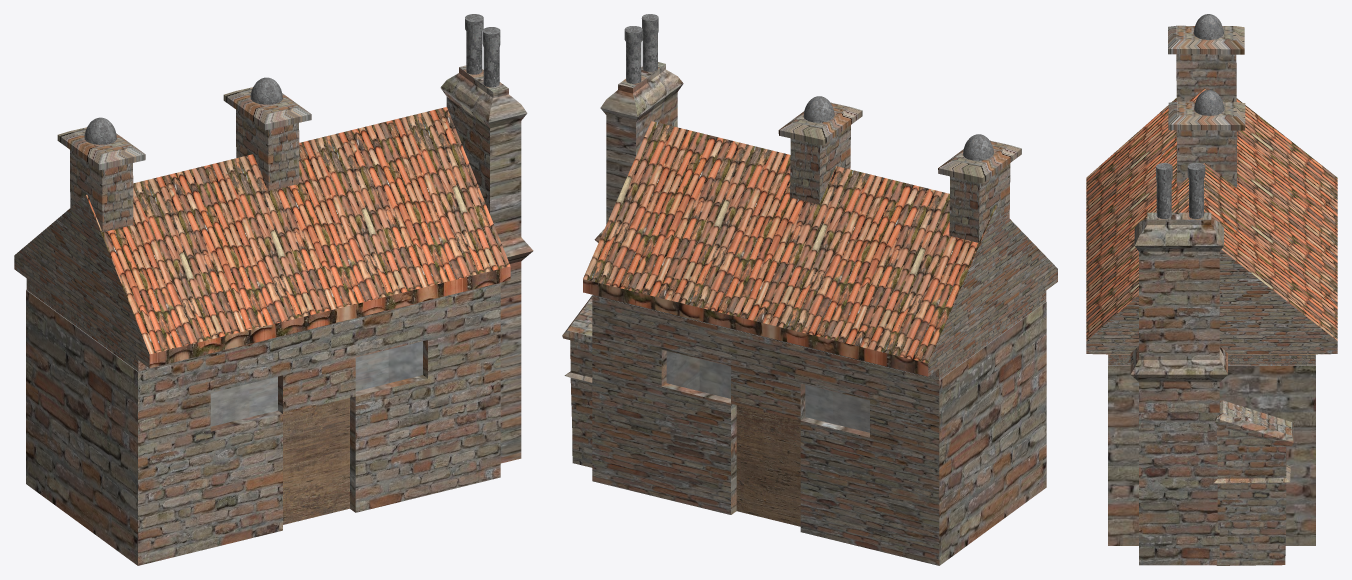
Rendered from House.fbx.
3 views of the same model, side by side, from view 1: azimuth 30°, elevation 25°; view 2: azimuth 150°, elevation 25°; view 3: azimuth 270°, elevation 25° (orthographic). The views are drawn at different scales.
Visible parts, largest first — view 1: pCube7, pPlatonic1, chimney, pCube6, pCube5, Chimney_top_2, Chimney_top, pSphere2, pSphere1; view 2: pCube7, pPlatonic1, chimney, pCube6, pCube5, Side_chimney, Chimney_top_2, Chimney_top, pSphere2, pSphere1; view 3: pPlatonic1, chimney, pCube7, Side_chimney, pCube5, pCube6, Chimney_top, Chimney_top_2, pSphere1, pSphere2.
Boxes of the visible parts, x1=… form: pCube7: x1=26, y1=283, x2=500, y2=565; pPlatonic1: x1=14, y1=107, x2=510, y2=371; chimney: x1=440, y1=65, x2=533, y2=463; pCube6: x1=57, y1=127, x2=145, y2=231; pCube5: x1=223, y1=87, x2=311, y2=190; Chimney_top_2: x1=465, y1=14, x2=483, y2=74; Chimney_top: x1=482, y1=27, x2=500, y2=87; pSphere2: x1=84, y1=117, x2=116, y2=144; pSphere1: x1=250, y1=77, x2=282, y2=104; pCube7: x1=592, y1=295, x2=1046, y2=565; pPlatonic1: x1=583, y1=121, x2=1057, y2=379; chimney: x1=594, y1=62, x2=683, y2=242; pCube6: x1=938, y1=140, x2=1021, y2=242; pCube5: x1=778, y1=102, x2=862, y2=204; Side_chimney: x1=562, y1=295, x2=592, y2=467; Chimney_top_2: x1=624, y1=26, x2=642, y2=83; Chimney_top: x1=641, y1=14, x2=658, y2=71; pSphere2: x1=963, y1=134, x2=993, y2=160; pSphere1: x1=803, y1=96, x2=834, y2=122; pPlatonic1: x1=1086, y1=87, x2=1337, y2=365; chimney: x1=1130, y1=212, x2=1227, y2=565; pCube7: x1=1108, y1=355, x2=1315, y2=545; Side_chimney: x1=1213, y1=400, x2=1293, y2=565; pCube5: x1=1168, y1=101, x2=1245, y2=187; pCube6: x1=1168, y1=25, x2=1244, y2=101; Chimney_top: x1=1156, y1=163, x2=1172, y2=218; Chimney_top_2: x1=1187, y1=162, x2=1205, y2=218; pSphere1: x1=1194, y1=90, x2=1224, y2=115; pSphere2: x1=1193, y1=14, x2=1223, y2=39.
Bounding box in the file's own units: 10.61 × 10.33 × 6.
6 materials, 5 textured.
